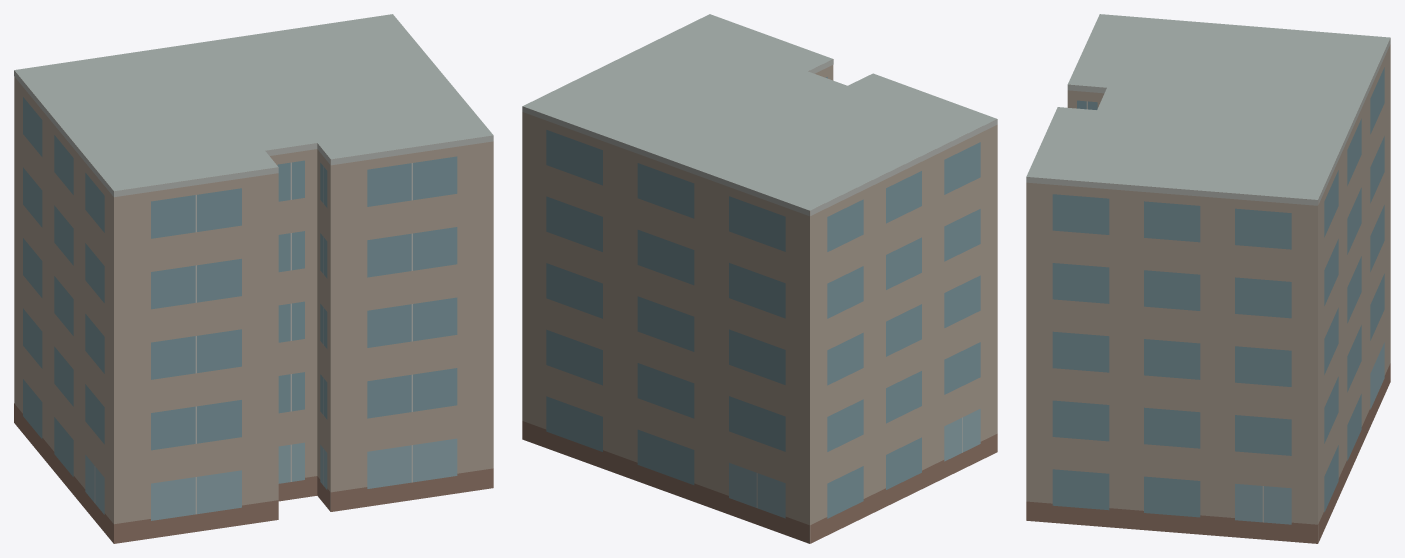
Rendered from survey-upis-32706194.glb.
3 renders of one model, left to right at view 1: azimuth 30°, elevation 25°; view 2: azimuth 150°, elevation 25°; view 3: azimuth 270°, elevation 25°, orthographic. The views are drawn at different scales.
Visible parts, largest first — view 1: survey-upis-32706194.tmp; view 2: survey-upis-32706194.tmp; view 3: survey-upis-32706194.tmp.
Boxes of the visible parts, box(x1,y1,x2,y2) form: survey-upis-32706194.tmp: box(14, 14, 493, 543); survey-upis-32706194.tmp: box(522, 14, 997, 543); survey-upis-32706194.tmp: box(1026, 14, 1390, 543).
Bounding box in the file's own units: 16.71 × 14.4 × 13.84.
